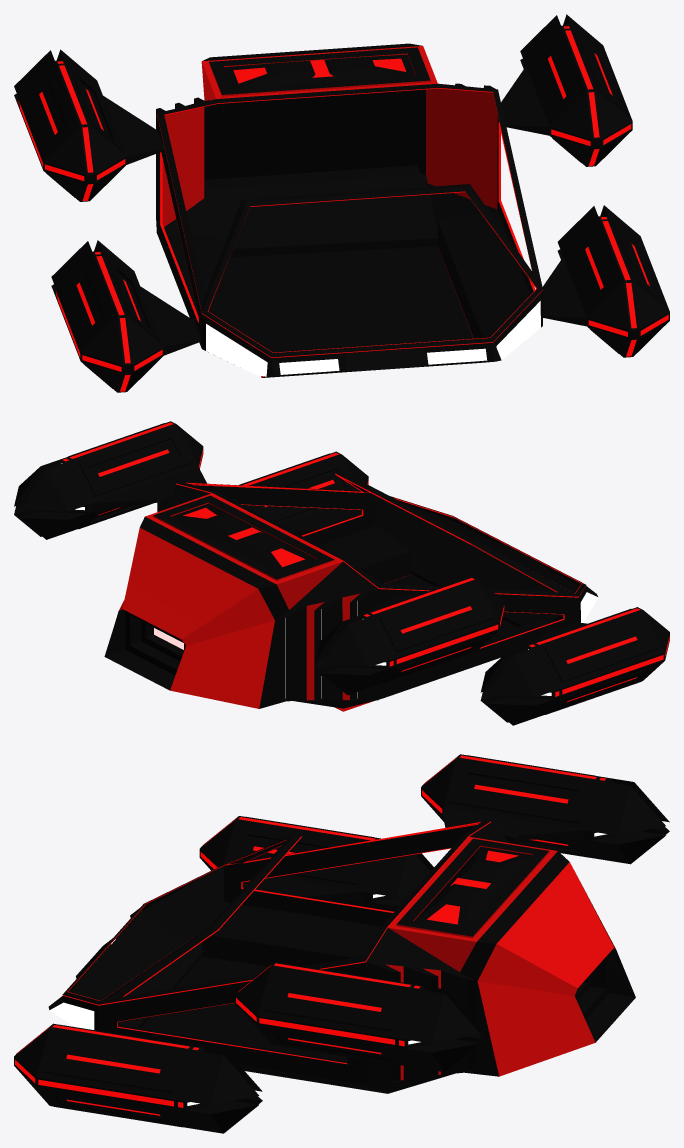
3 views of the same model, one above another, from view 1: azimuth 30°, elevation 25°; view 2: azimuth 150°, elevation 25°; view 3: azimuth 270°, elevation 25° (orthographic). The views are drawn at different scales.
Parts seen in each view (by area): view 1: r, Cube.003, Cube.002, Cube.007, Cube.001, Cube.005, Cube.006; view 2: r, Cube.002, Cube.003, Cube.007, Cube.001, Cube.005; view 3: r, Cube.007, Cube.001, Cube.003, Cube.002, Cube.005.
Part boxes in pixels (x1,y1,x2,y2): r: (156, 43, 542, 377); Cube.003: (14, 49, 164, 201); Cube.002: (51, 240, 201, 392); Cube.007: (501, 14, 632, 166); Cube.001: (542, 205, 669, 357); Cube.005: (202, 187, 542, 357); Cube.006: (341, 348, 421, 372); r: (104, 472, 598, 711); Cube.002: (480, 607, 669, 725); Cube.003: (315, 577, 504, 695); Cube.007: (14, 421, 206, 539); Cube.001: (238, 451, 368, 535); Cube.005: (343, 473, 586, 596); r: (48, 821, 635, 1093); Cube.007: (235, 962, 483, 1071); Cube.001: (14, 1023, 262, 1133); Cube.003: (421, 754, 669, 864); Cube.002: (199, 816, 433, 911); Cube.005: (62, 836, 293, 1004).
Size of what is drawn, in the model's own units: 1300 by 387 by 1181.
